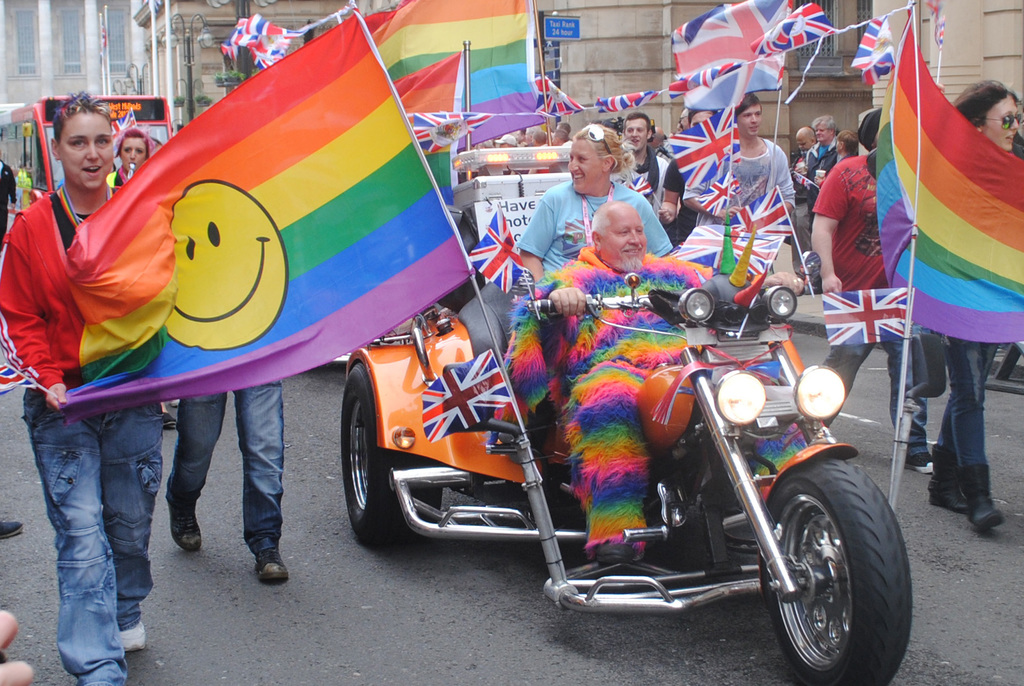Motorcycle: (312, 269, 906, 649)
